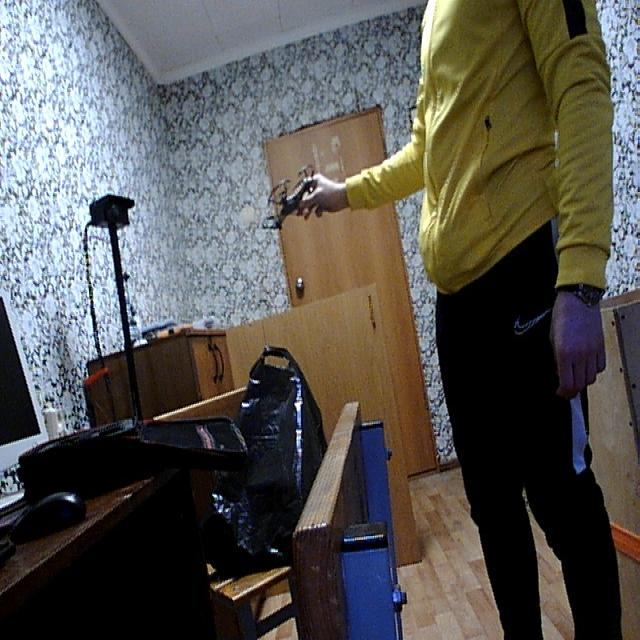drone: (259, 164, 330, 236)
